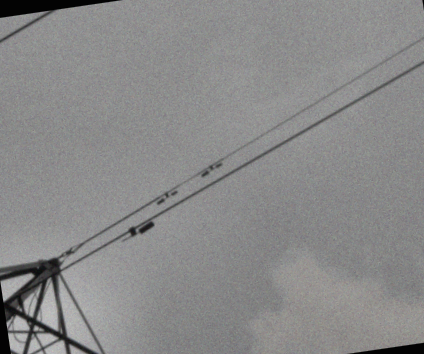damper: (156, 188, 179, 206), (200, 160, 223, 178)
damper_defect: (119, 219, 155, 243)
